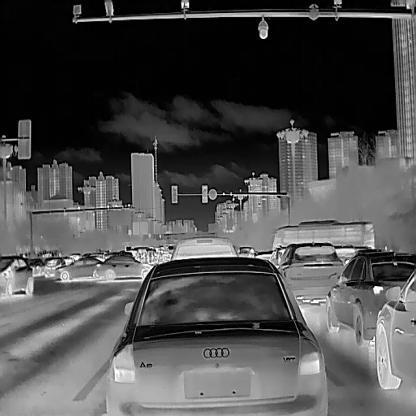car: (104, 255, 328, 415), (325, 253, 416, 345), (375, 268, 416, 388), (277, 241, 344, 303), (270, 218, 374, 251), (92, 253, 152, 280), (0, 254, 34, 294), (54, 255, 101, 281), (44, 257, 64, 277), (29, 258, 44, 277)
